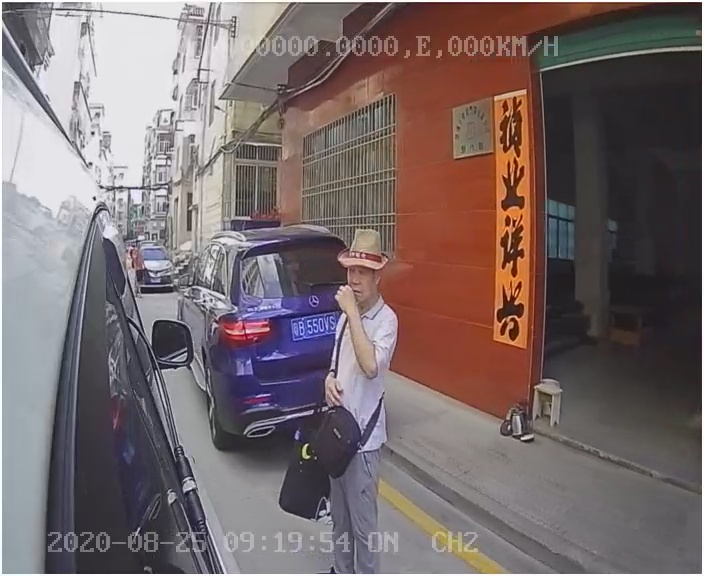person: (302, 237, 415, 523)
